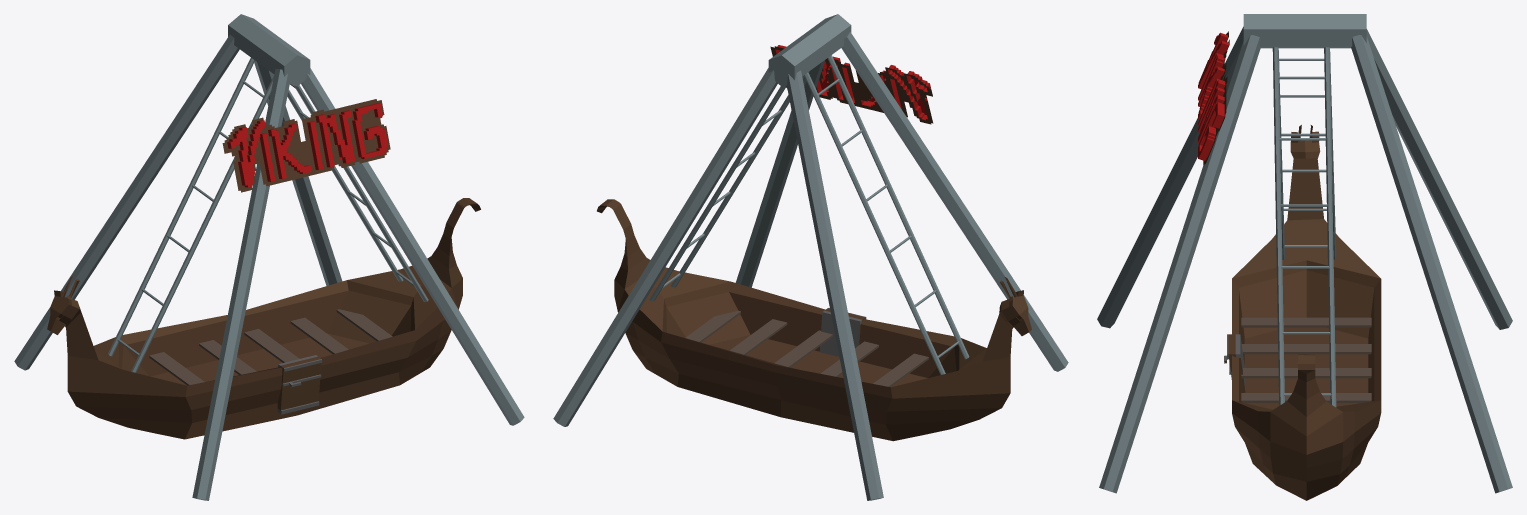
The model's file is Viikinkilaiva.fbx.
3 renders of one model, left to right at view 1: azimuth 30°, elevation 25°; view 2: azimuth 150°, elevation 25°; view 3: azimuth 270°, elevation 25°, orthographic. The views are drawn at different scales.
Visible parts, largest first — view 1: kehikko.001; view 2: kehikko.001; view 3: kehikko.001.
Boxes of the visible parts, box(x1,y1,x2,y2) form: kehikko.001: box(14, 14, 524, 500); kehikko.001: box(553, 14, 1068, 500); kehikko.001: box(1097, 14, 1512, 500).
Bounding box in the file's own units: 1348 × 1756 × 1459.
